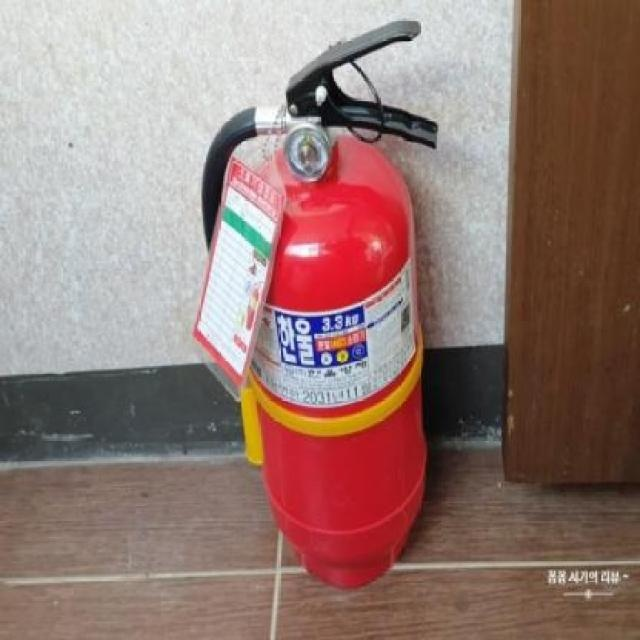fire extinguisher: (202, 18, 440, 591)
